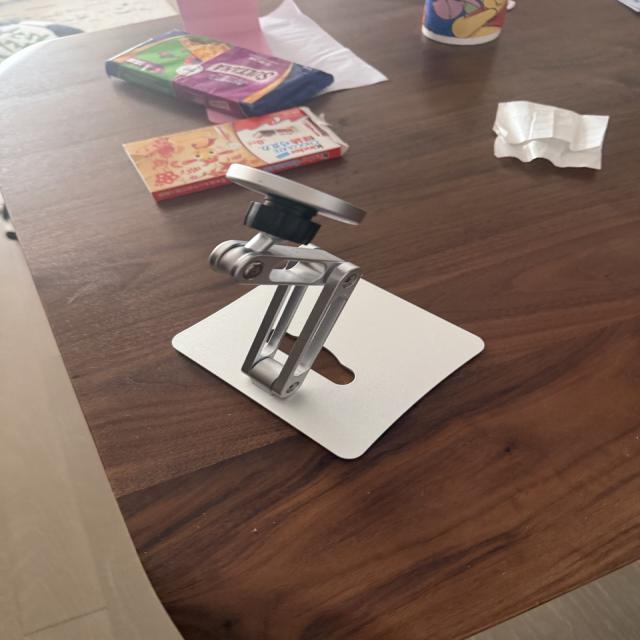phone holder: (152, 155, 491, 465)
